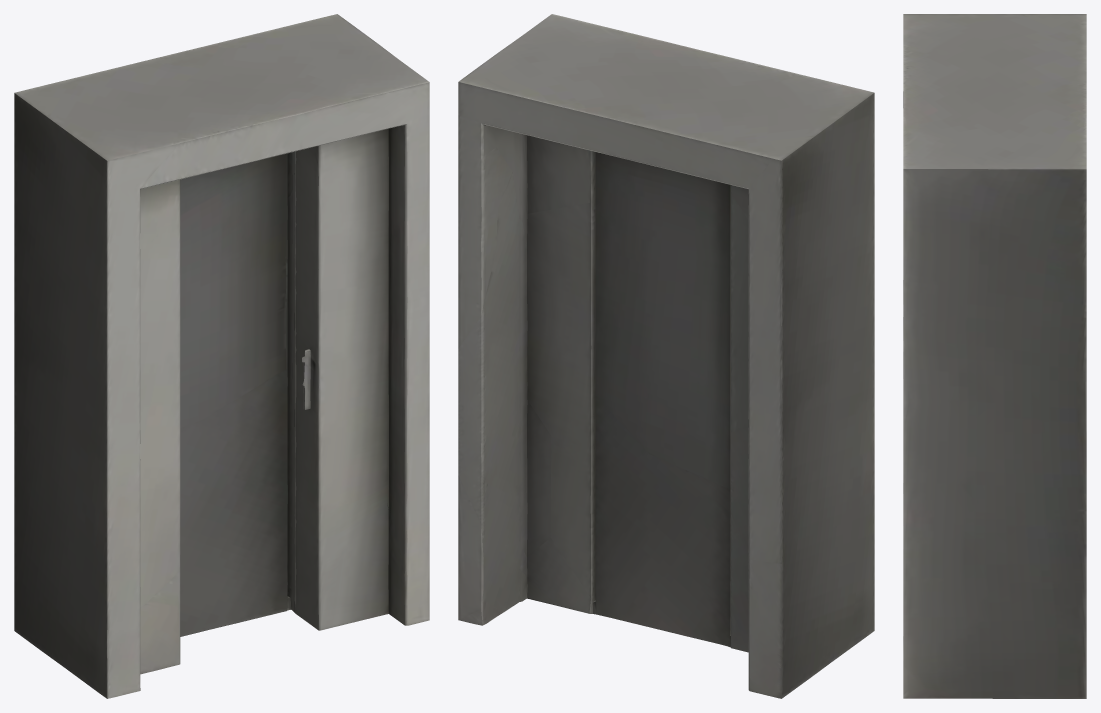
File: m2DoorwayV2.glb
The picture shows the model from 3 angles, left to right: view 1: azimuth 30°, elevation 25°; view 2: azimuth 150°, elevation 25°; view 3: azimuth 270°, elevation 25°; orthographic projection.
Parts seen in each view (by area): view 1: model; view 2: model; view 3: model.
Part boxes in pixels (box(x1,y1,x2,y2)): model: box(14, 14, 429, 698); model: box(458, 14, 874, 698); model: box(903, 14, 1086, 698).
Bounding box in the file's own units: 1.19 × 1.89 × 0.5928.
1 material, 1 textured.
